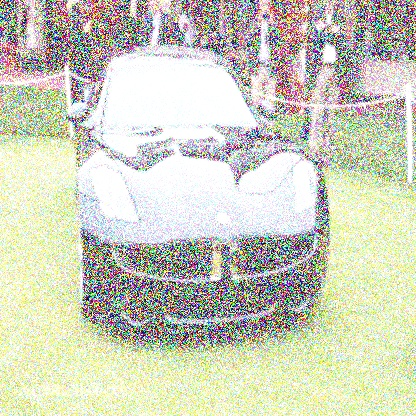Vehicle: (67, 45, 332, 334)
